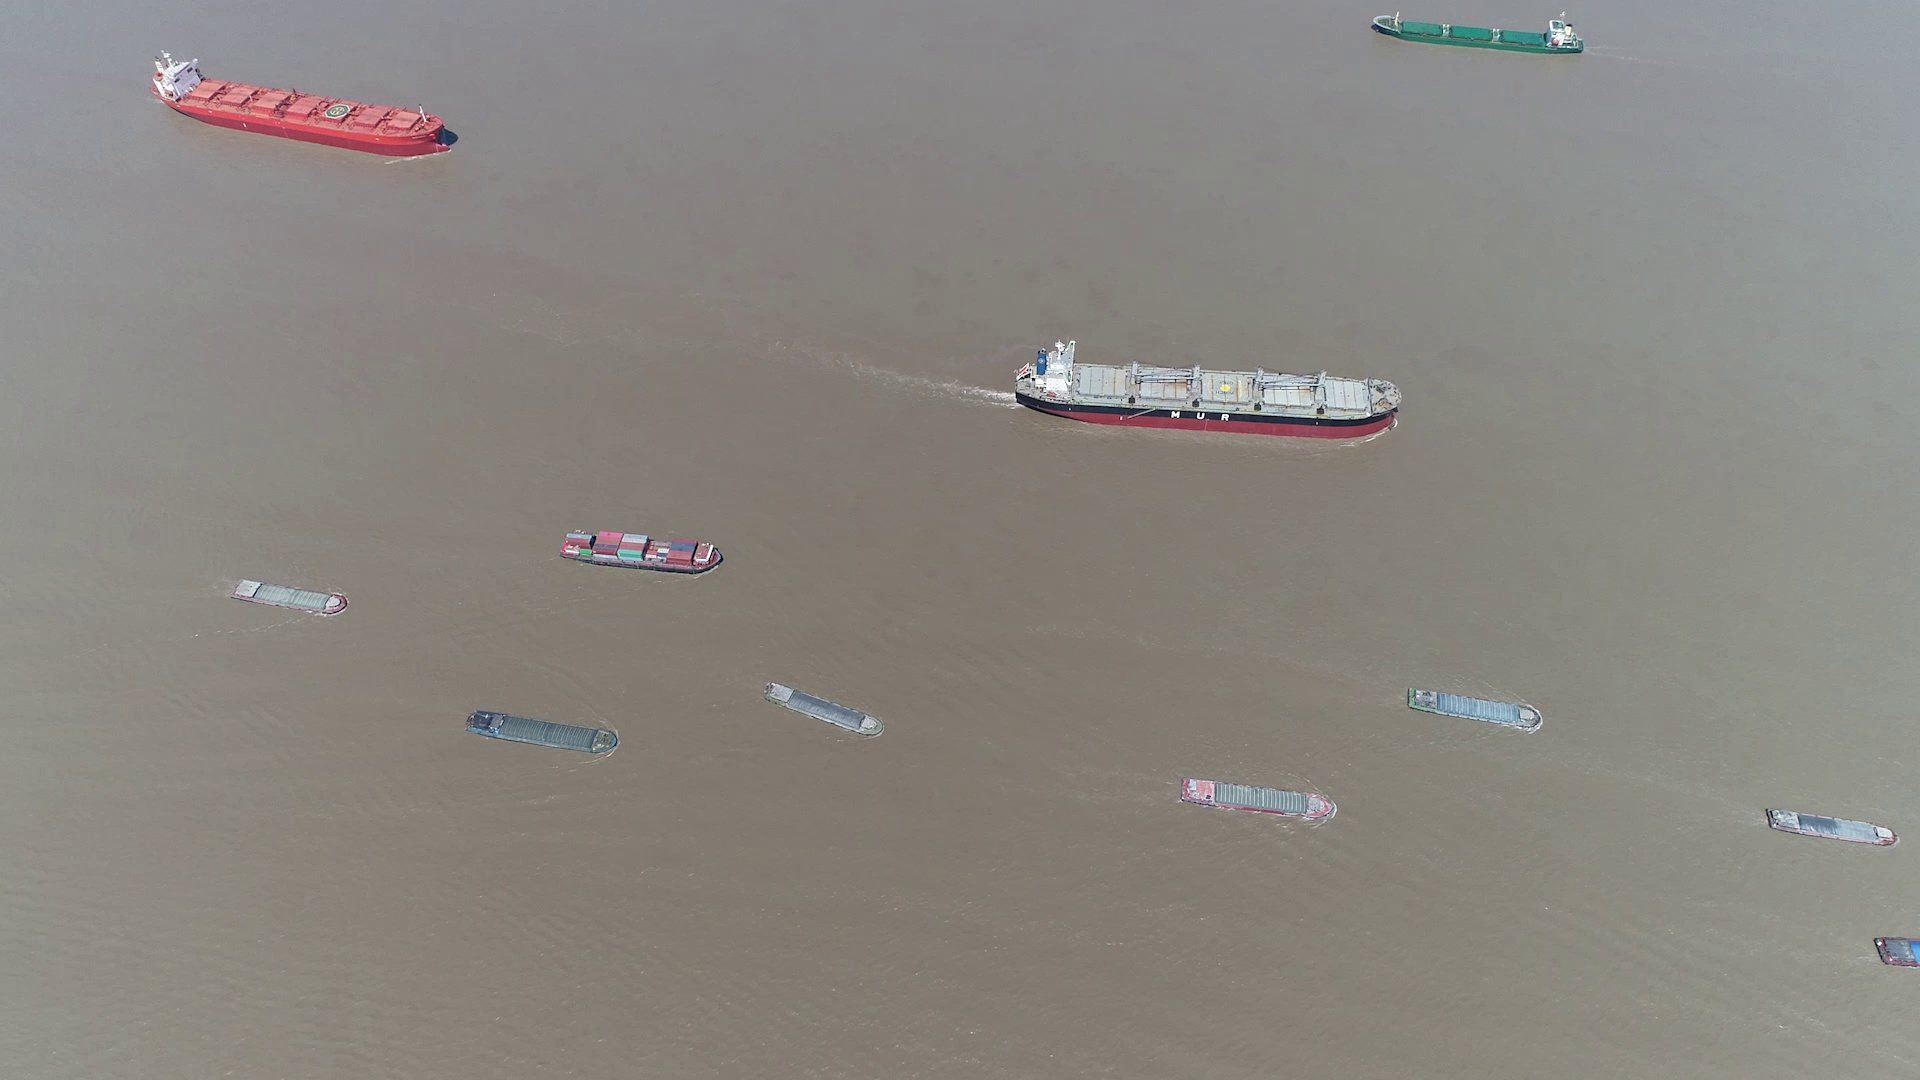ship: (1014, 342, 1402, 439), (156, 49, 451, 153), (1369, 11, 1586, 55), (558, 527, 723, 575), (467, 709, 618, 756), (766, 683, 884, 738), (1183, 779, 1336, 820), (1404, 686, 1544, 729), (1764, 808, 1900, 847), (232, 579, 348, 616), (1874, 935, 1919, 968)
